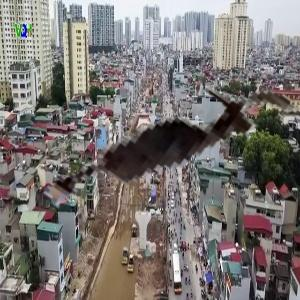drone: (6, 7, 299, 300)
